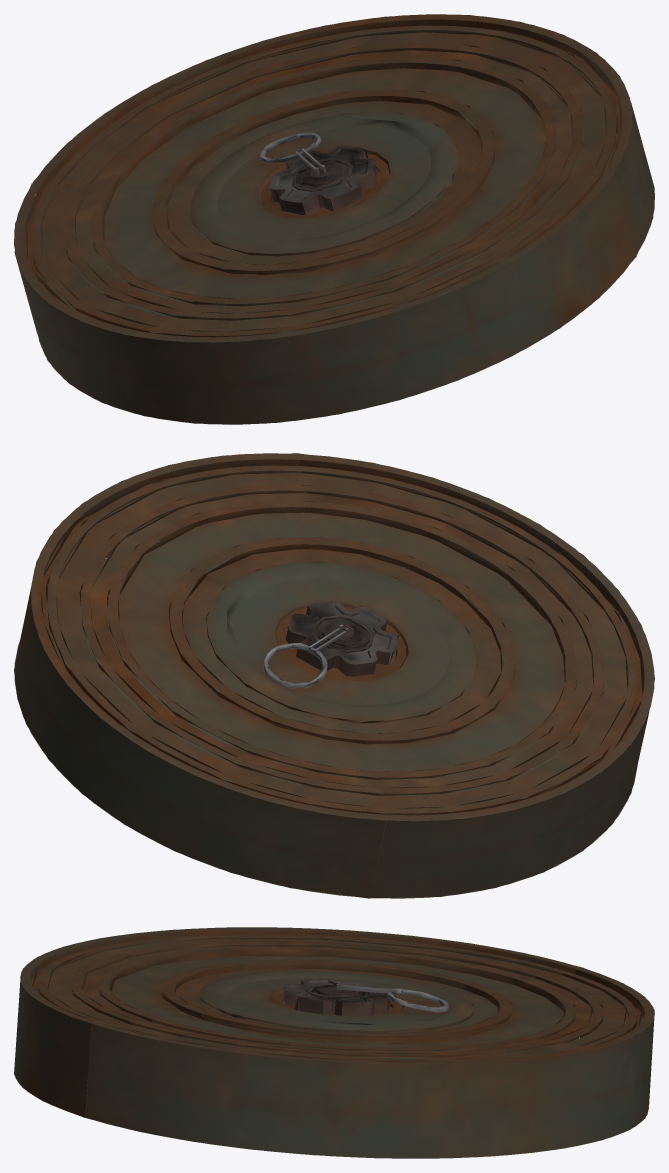
File: proximity_mine.glb
3 views of the same model, one above another, from view 1: azimuth 30°, elevation 25°; view 2: azimuth 150°, elevation 25°; view 3: azimuth 270°, elevation 25° (orthographic).
Parts seen in each view (by area): view 1: LandMine_low_base_0; view 2: LandMine_low_base_0; view 3: LandMine_low_base_0.
Part boxes in pixels (bbox=[...]): LandMine_low_base_0: bbox=[14, 14, 654, 424]; LandMine_low_base_0: bbox=[14, 453, 654, 898]; LandMine_low_base_0: bbox=[14, 927, 654, 1158].
Size of the model in its own units: 0.4151 by 0.1554 by 0.4166.
3 materials, 3 textured.
